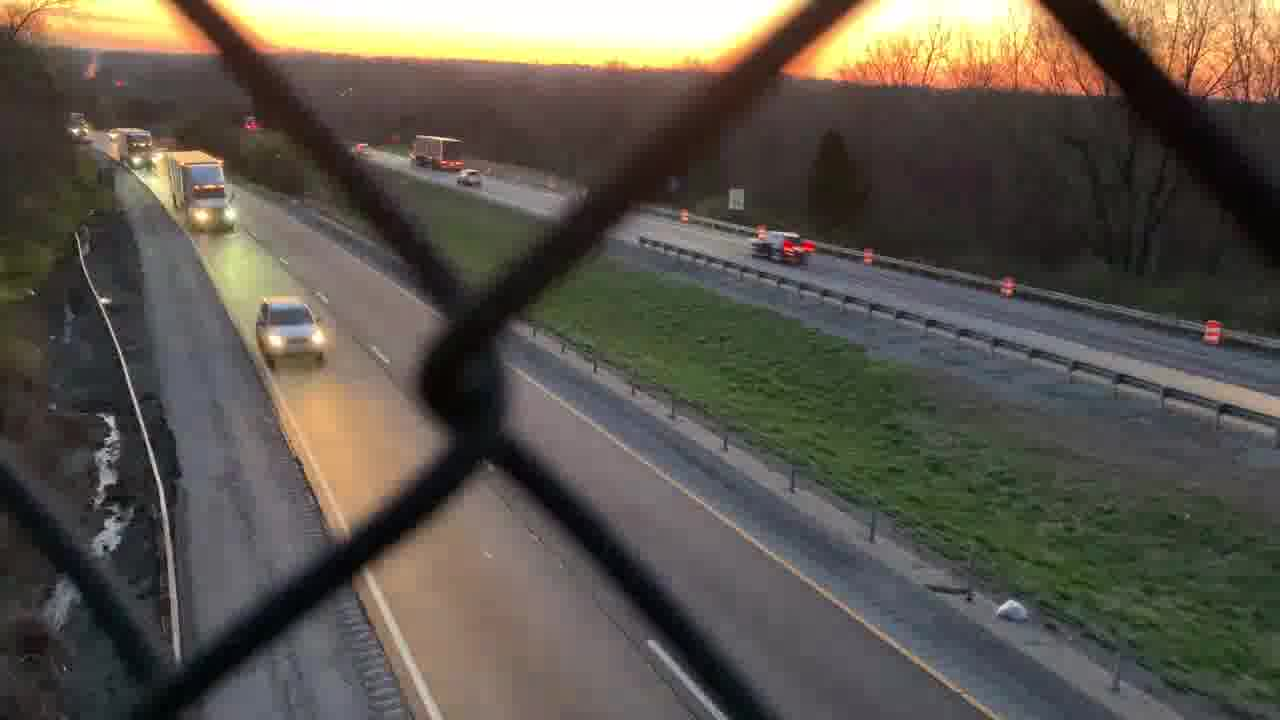heavyTruck: (157, 148, 241, 233), (401, 132, 461, 168)
largeCar: (256, 300, 329, 367)
